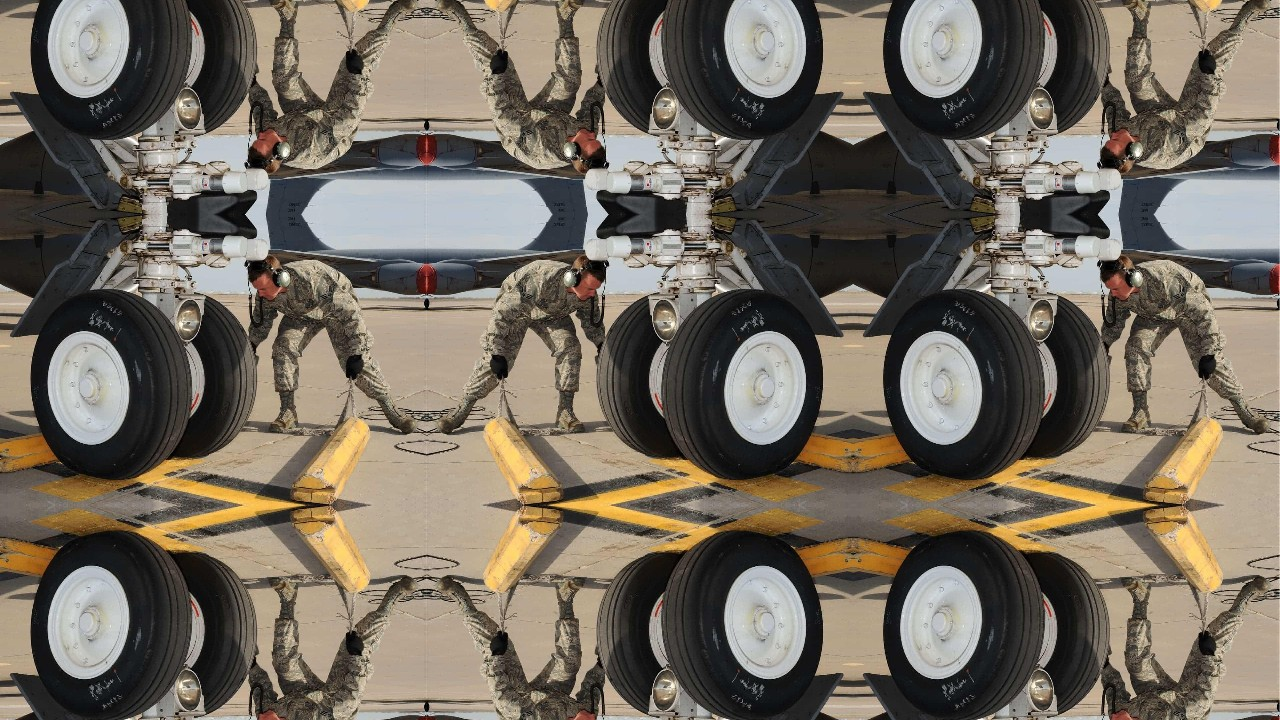chock: (289, 505, 371, 596), (1142, 505, 1224, 596), (289, 415, 371, 505), (1142, 415, 1224, 505), (483, 505, 564, 596), (483, 415, 564, 505), (289, 0, 371, 14), (1142, 0, 1224, 14), (483, 0, 564, 14)
wheel: (886, 289, 1046, 477), (33, 289, 192, 477), (661, 289, 820, 477), (886, 534, 1046, 720), (33, 534, 192, 720), (661, 534, 820, 720), (886, 0, 1046, 140), (33, 0, 192, 140), (661, 0, 820, 140), (165, 292, 256, 458), (597, 292, 688, 458), (1018, 292, 1109, 458), (165, 553, 256, 719), (597, 553, 688, 719), (1018, 553, 1109, 719), (165, 0, 256, 137), (597, 0, 688, 137), (1018, 0, 1109, 137)
